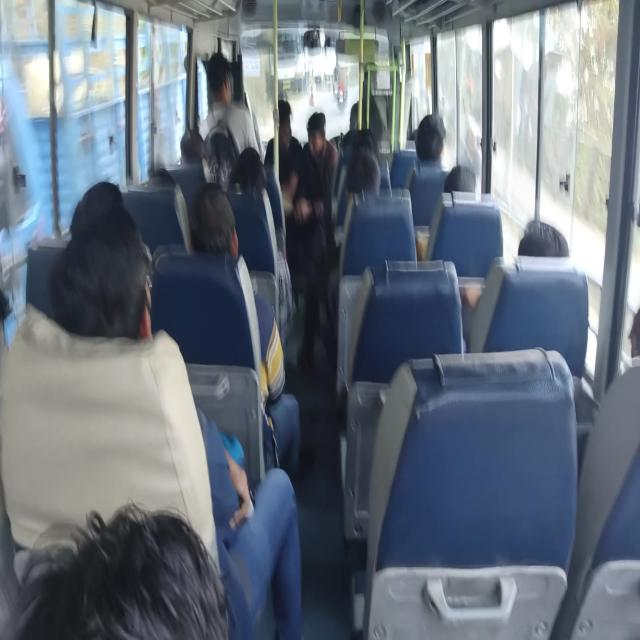person: (66, 426, 212, 640), (15, 221, 164, 372), (190, 186, 251, 277), (77, 174, 149, 245), (512, 210, 568, 282), (344, 160, 399, 208), (204, 45, 243, 112), (618, 288, 640, 387), (422, 114, 457, 172), (306, 117, 343, 167), (180, 114, 220, 160), (272, 93, 310, 141), (337, 125, 378, 168), (127, 148, 167, 192), (453, 162, 485, 204), (356, 130, 380, 166), (406, 118, 430, 152), (247, 147, 270, 182), (229, 182, 252, 202)
